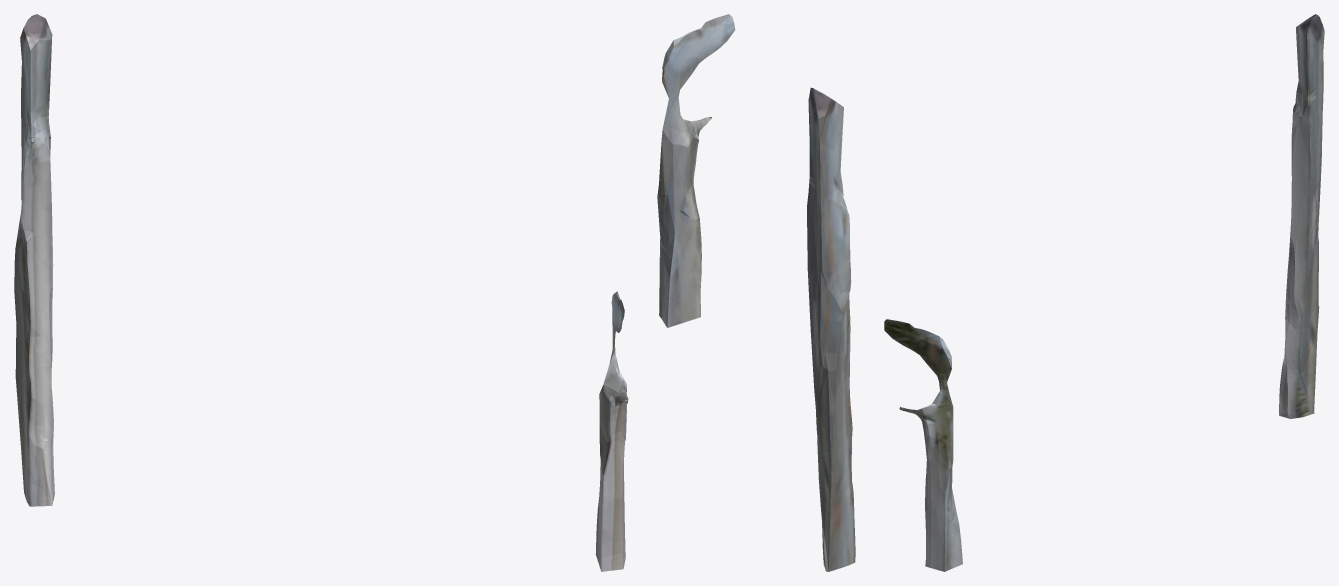
3 renders of one model, left to right at view 1: azimuth 30°, elevation 25°; view 2: azimuth 150°, elevation 25°; view 3: azimuth 270°, elevation 25°, orthographic. The views are drawn at different scales.
Bounding box in the file's own units: 2.49 × 2.85 × 2.82.
Materials: 1 (1 with a texture image).
